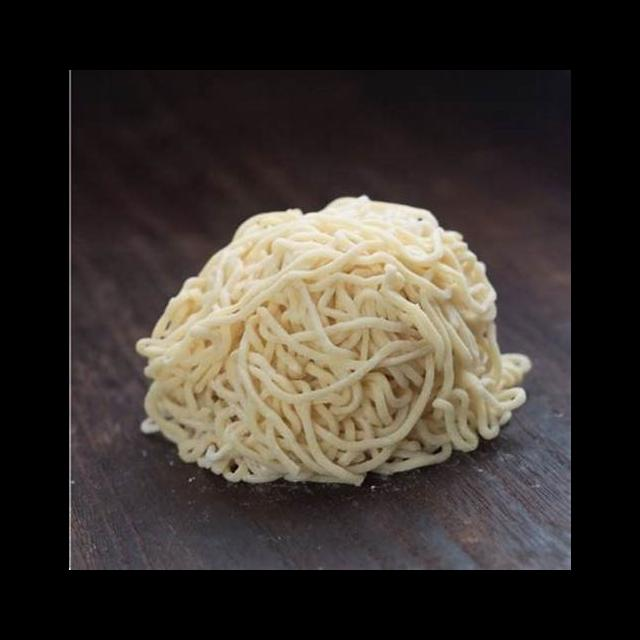food_waste: (121, 173, 549, 495)
